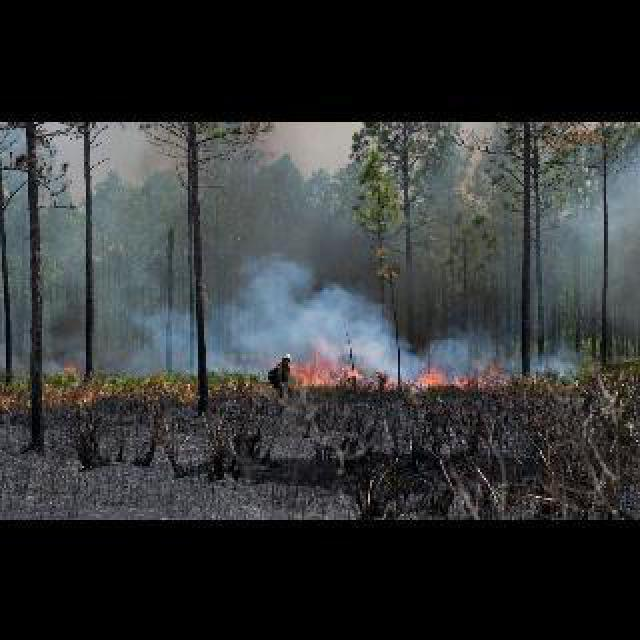Fire: (282, 332, 360, 380), (418, 360, 472, 386), (478, 360, 498, 380), (62, 358, 78, 372)
